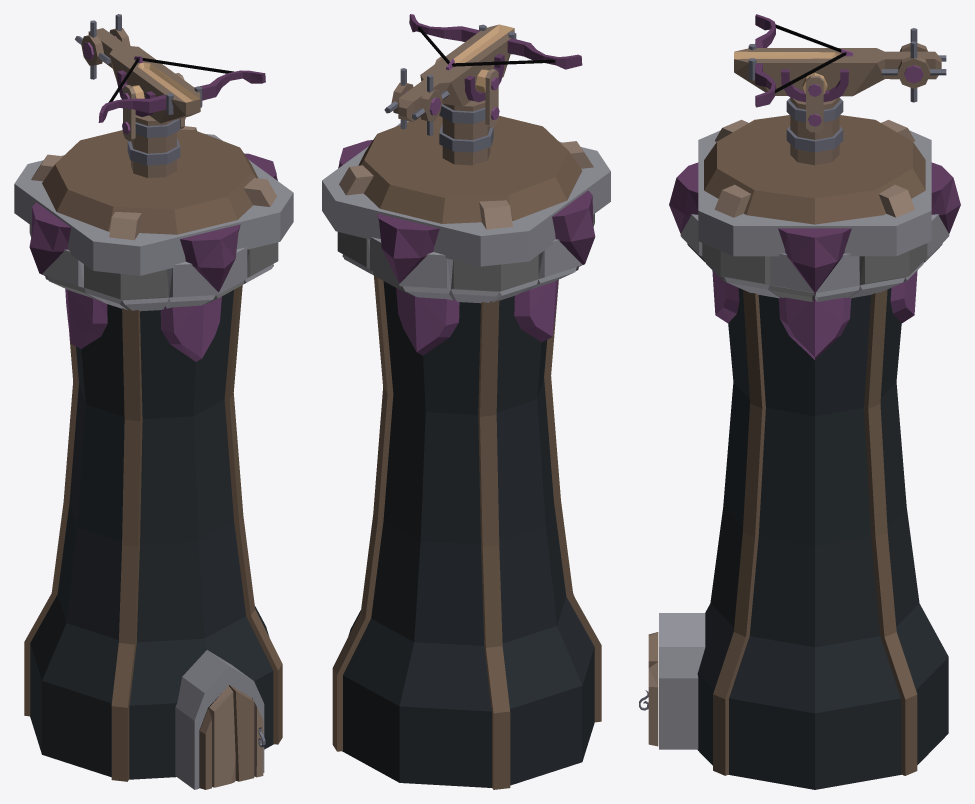
File: Ballista_LVL1.fbx
3 views of the same model, side by side, from view 1: azimuth 30°, elevation 25°; view 2: azimuth 150°, elevation 25°; view 3: azimuth 270°, elevation 25° (orthographic). The views are drawn at different scales.
Visible parts, largest first — view 1: Ballista_tower_LVL_1.002, Ballista_tower_LVL_1.001; view 2: Ballista_tower_LVL_1.002, Ballista_tower_LVL_1.001; view 3: Ballista_tower_LVL_1.002, Ballista_tower_LVL_1.001.
Boxes of the visible parts, x1,y1,x2,y2 form: Ballista_tower_LVL_1.002: (14, 115, 293, 789); Ballista_tower_LVL_1.001: (75, 14, 265, 141); Ballista_tower_LVL_1.002: (322, 100, 610, 789); Ballista_tower_LVL_1.001: (384, 14, 582, 135); Ballista_tower_LVL_1.002: (639, 97, 960, 789); Ballista_tower_LVL_1.001: (734, 14, 946, 132).
Bounding box in the file's own units: 547 × 1409 × 590.
